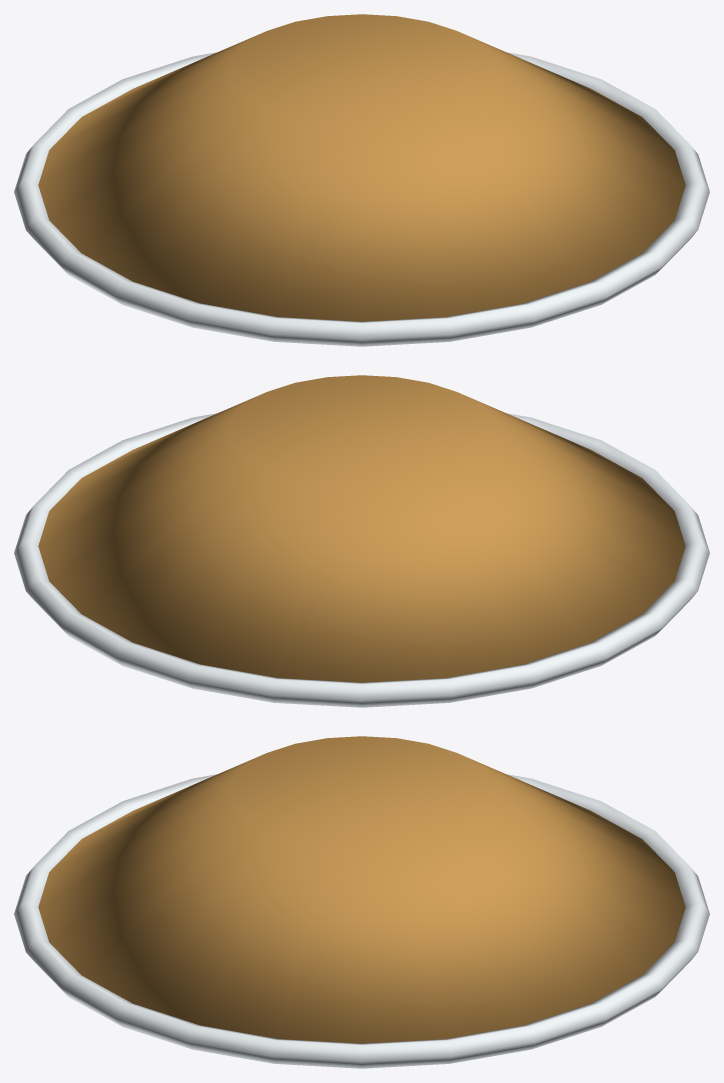
3 renders of one model, top to bottom at view 1: azimuth 30°, elevation 25°; view 2: azimuth 150°, elevation 25°; view 3: azimuth 270°, elevation 25°, orthographic.
Visible parts, largest first — view 1: Cone001, Torus001; view 2: Cone001, Torus001; view 3: Cone001, Torus001.
Boxes of the visible parts, left/top/right/bottom form: Cone001: left=38, top=14, right=685, bottom=321; Torus001: left=14, top=52, right=709, bottom=346; Cone001: left=38, top=375, right=685, bottom=682; Torus001: left=14, top=413, right=709, bottom=707; Cone001: left=38, top=736, right=685, bottom=1043; Torus001: left=14, top=774, right=709, bottom=1068.
Bounding box in the file's own units: 10.4 × 2.19 × 10.4.
